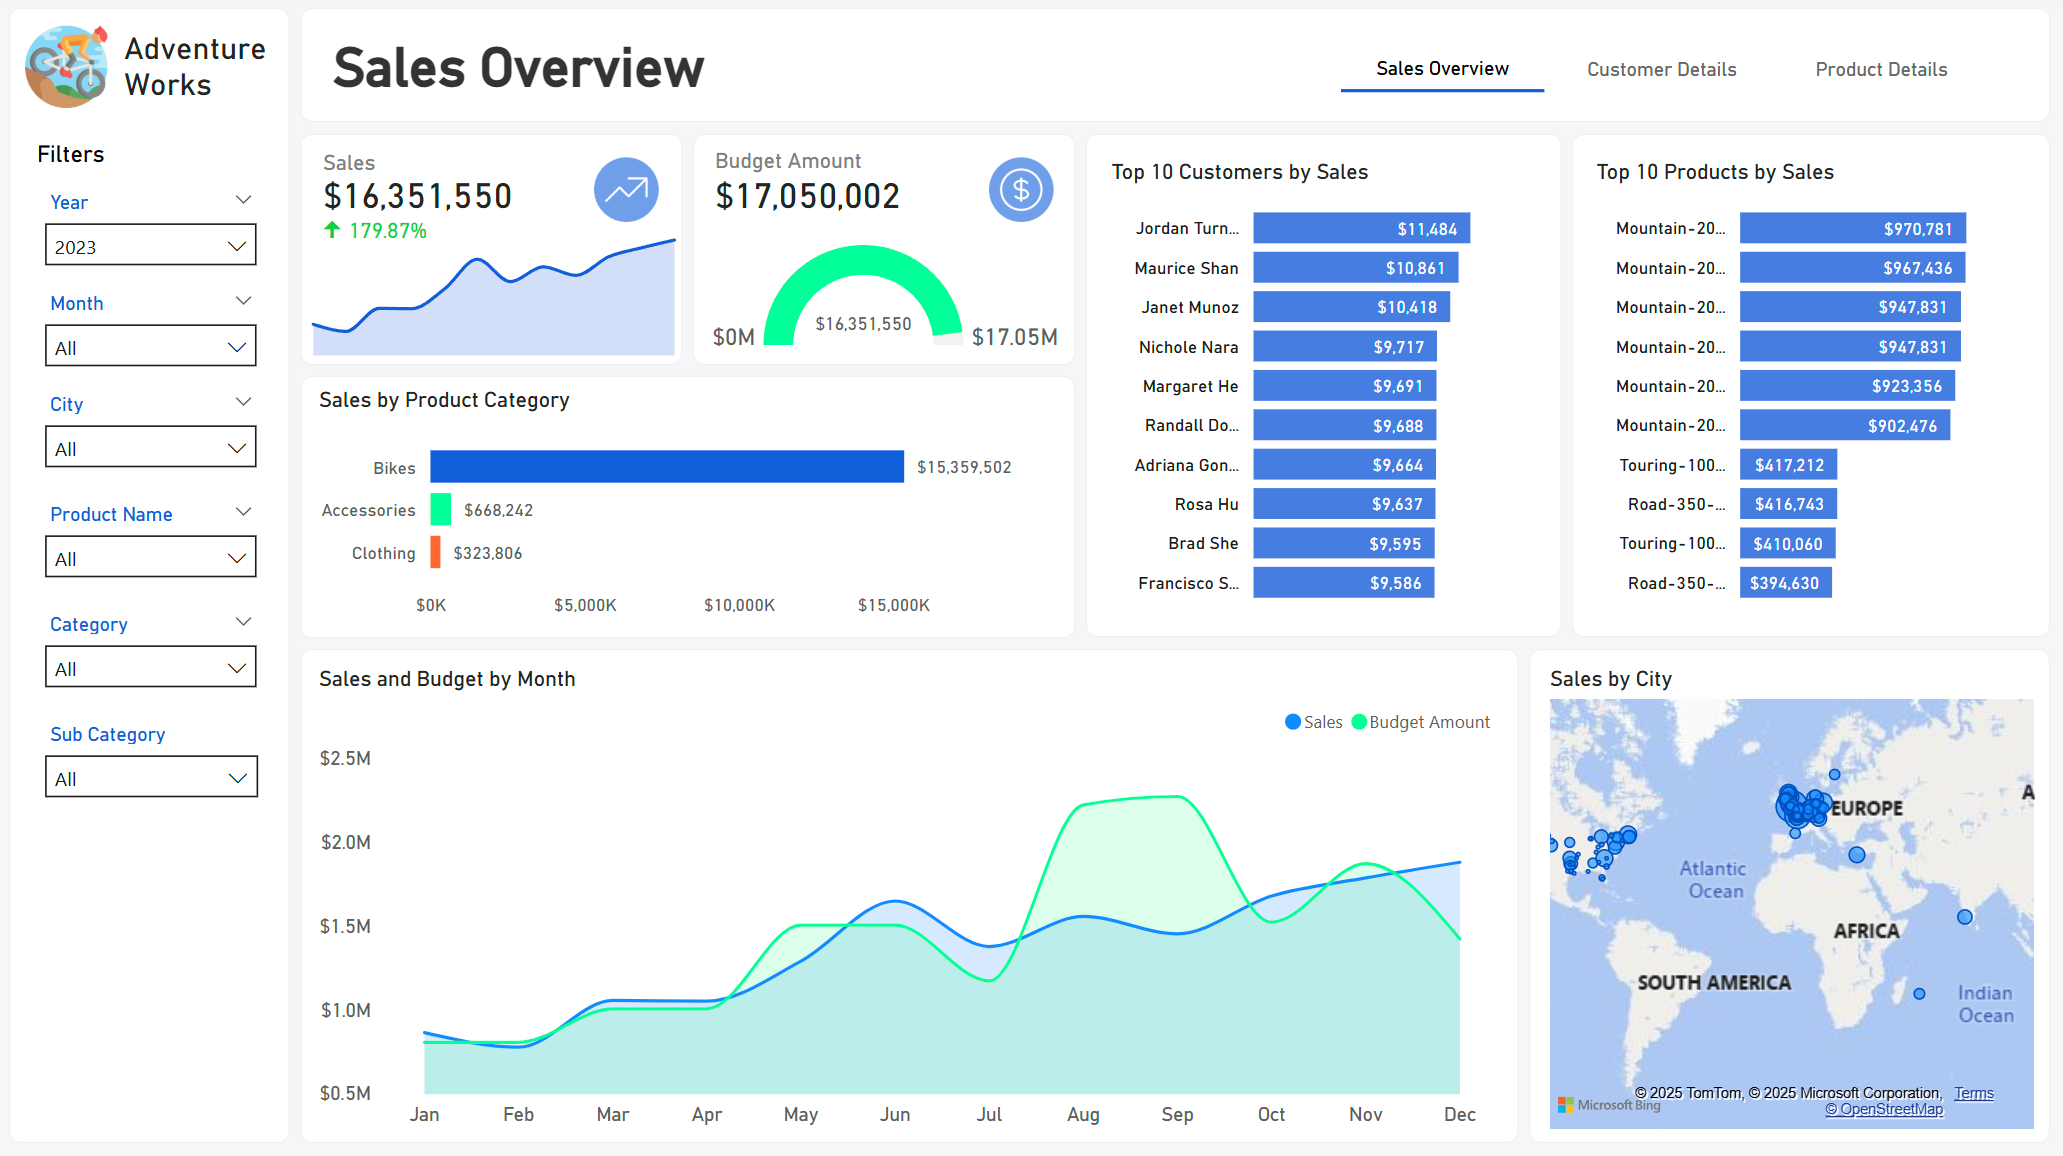

Layout of this report page (visuals, bound fields, positions):
{"tool":"powerbi","page":{"name":" Sales Overview","canvas":[1280,720],"ordinal":0},"visuals":[{"type":"cardVisual","fields":{"Data":["Key Measures.Sales"]},"box":[196.5,80.5,191.8,69.4],"z":0},{"type":"lineChart","title":"Sales and Budget by Month","fields":{"Category":["DIM_Calendar_CSV.MonthShort"],"Y":["Key Measures.Sales","Key Measures.Budget Amount"]},"box":[194.1,415.9,740.2,290.4],"z":1000},{"type":"slicer","fields":{"Values":["DIM_Customers_CSV.CustomerCity"]},"box":[19,241.1,151,60],"z":2000},{"type":"barChart","title":"Sales by Product Category","fields":{"Category":["DIM_Products_CSV.ProductCategory"],"Y":["Key Measures.Sales"]},"box":[194.1,243.1,465.6,148.4],"z":3000},{"type":"slicer","fields":{"Values":["DIM_Products_CSV.SubCategory"]},"box":[19,445.7,151.5,60],"z":4000},{"type":"barChart","title":"Top 10 Customers by Sales","fields":{"Y":["Key Measures.Sales"],"Category":["DIM_Customers_CSV.FullName"]},"box":[681,92.3,281.7,300.7],"z":5000},{"type":"slicer","fields":{"Values":["DIM_Products_CSV.ProductCategory"]},"box":[19,377.5,151,60],"z":6000},{"type":"barChart","title":"Top 10 Products by Sales","fields":{"Y":["Key Measures.Sales"],"Category":["DIM_Products_CSV.ProductName"]},"box":[981.7,92.3,284.9,300.7],"z":7000},{"type":"slicer","fields":{"Values":["DIM_Products_CSV.ProductName"]},"box":[19,309.3,151,60],"z":8000},{"type":"slicer","fields":{"Values":["DIM_Calendar_CSV.MonthShort"]},"box":[19,178.5,151,54.5],"z":10000},{"type":"textbox","box":[19,83.5,133.4,31.6],"z":11000},{"type":"cardVisual","fields":{"Data":["Key Measures.Budget Amount"]},"box":[439.6,80.5,207.5,69.4],"z":12000},{"type":"lineChart","fields":{"Y":["Key Measures.Sales"],"Category":["DIM_Calendar_CSV.Month"]},"box":[182.3,131,250.2,97.1],"z":13000},{"type":"gauge","fields":{"Y":["Key Measures.Sales"],"MaxValue":["Key Measures.Budget Amount"]},"box":[432.5,138.9,234.4,97.9],"z":14000},{"type":"slicer","fields":{"Values":["Years.Year"]},"box":[19,115.8,151,54.5],"z":15000},{"type":"pageNavigator","box":[832.3,26.6,400.6,33.8],"z":16000},{"type":"textbox","box":[202.5,19.5,375.7,48],"z":17000},{"type":"cardVisual","fields":{"Data":["Key Measures.Diff Last Year Sales"]},"box":[200,126,119,31.1],"z":18000},{"type":"map","title":"Sales by City","fields":{"Category":["DIM_Customers_CSV.CustomerCity"],"Size":["Sum(FACT_InternetSales_CSV.SalesAmount)"]},"box":[956.7,415.7,310,291.4],"z":19000},{"type":"image","box":[11.5,12.4,61.3,62.2],"z":19001},{"type":"textbox","box":[72.8,16,108.4,55.1],"z":19002}]}

Visuals, with their boxes in screenshot pixels (x1, y1, x2, y2), scaled from the page's 1280x720 canvas onto the 2063x1156 screenshot:
cardVisual - Key Measures.Sales: <region>317, 129, 626, 241</region>
"Sales and Budget by Month" lineChart: <region>313, 668, 1506, 1134</region>
slicer - DIM_Customers_CSV.CustomerCity: <region>31, 387, 274, 483</region>
"Sales by Product Category" barChart: <region>313, 390, 1063, 629</region>
slicer - DIM_Products_CSV.SubCategory: <region>31, 716, 275, 812</region>
"Top 10 Customers by Sales" barChart: <region>1098, 148, 1552, 631</region>
slicer - DIM_Products_CSV.ProductCategory: <region>31, 606, 274, 702</region>
"Top 10 Products by Sales" barChart: <region>1582, 148, 2041, 631</region>
slicer - DIM_Products_CSV.ProductName: <region>31, 497, 274, 593</region>
slicer - DIM_Calendar_CSV.MonthShort: <region>31, 287, 274, 374</region>
textbox: <region>31, 134, 246, 185</region>
cardVisual - Key Measures.Budget Amount: <region>709, 129, 1043, 241</region>
lineChart - Key Measures.Sales x DIM_Calendar_CSV.Month: <region>294, 210, 697, 366</region>
gauge - Key Measures.Sales x Key Measures.Budget Amount: <region>697, 223, 1075, 380</region>
slicer - Years.Year: <region>31, 186, 274, 273</region>
pageNavigator: <region>1341, 43, 1987, 97</region>
textbox: <region>326, 31, 932, 108</region>
cardVisual - Key Measures.Diff Last Year Sales: <region>322, 202, 514, 252</region>
"Sales by City" map: <region>1542, 667, 2042, 1135</region>
image: <region>19, 20, 117, 120</region>
textbox: <region>117, 26, 292, 114</region>
